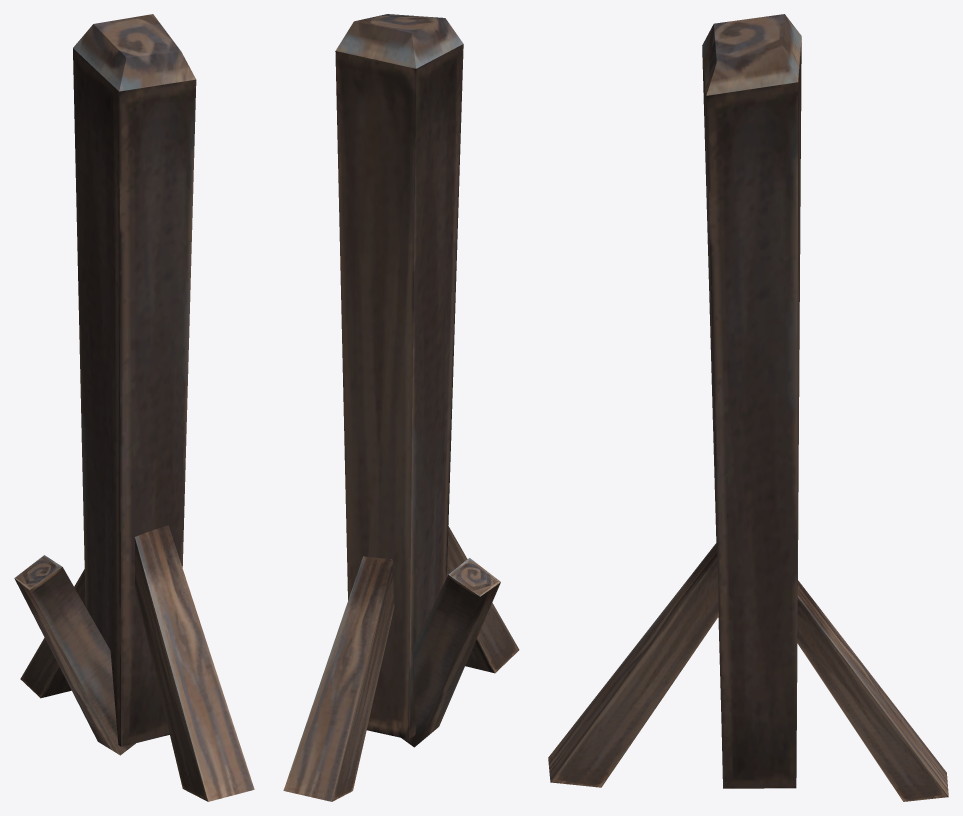
File: wood_arm01.fbx
The picture shows the model from 3 angles, left to right: view 1: azimuth 30°, elevation 25°; view 2: azimuth 150°, elevation 25°; view 3: azimuth 270°, elevation 25°; orthographic projection. The views are drawn at different scales.
Visible parts, largest first — view 1: obj0.175; view 2: obj0.175; view 3: obj0.175.
Part boxes in pixels (left/top/right/bottom): obj0.175: left=14, top=14, right=254, bottom=801; obj0.175: left=283, top=14, right=519, bottom=801; obj0.175: left=548, top=14, right=948, bottom=801.
Bounding box in the file's own units: 0.911 × 4.27 × 2.04.
